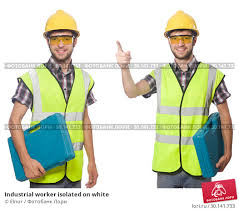Person_wearing_helmet: (38, 6, 81, 43), (159, 8, 202, 43)
